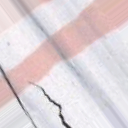crackTip: (1, 61, 72, 128)
